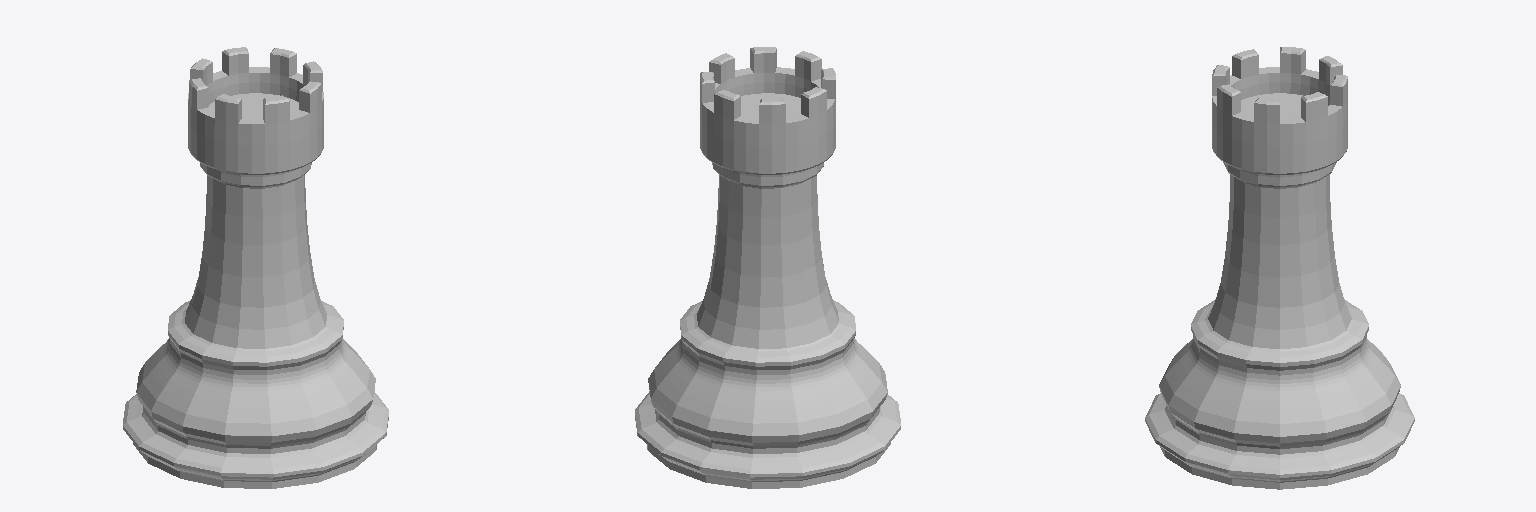
The model's file is brook.obj.
3 views of the same model, side by side, from view 1: azimuth 30°, elevation 25°; view 2: azimuth 150°, elevation 25°; view 3: azimuth 270°, elevation 25° (orthographic).
Parts seen in each view (by area): view 1: BlackRook1_Cylinder.025; view 2: BlackRook1_Cylinder.025; view 3: BlackRook1_Cylinder.025.
Part boxes in pixels (x1,y1,x2,y2): BlackRook1_Cylinder.025: (123, 47, 388, 488); BlackRook1_Cylinder.025: (635, 47, 900, 488); BlackRook1_Cylinder.025: (1145, 47, 1414, 489).
Bounding box in the file's own units: 1.4 × 2.07 × 1.4.